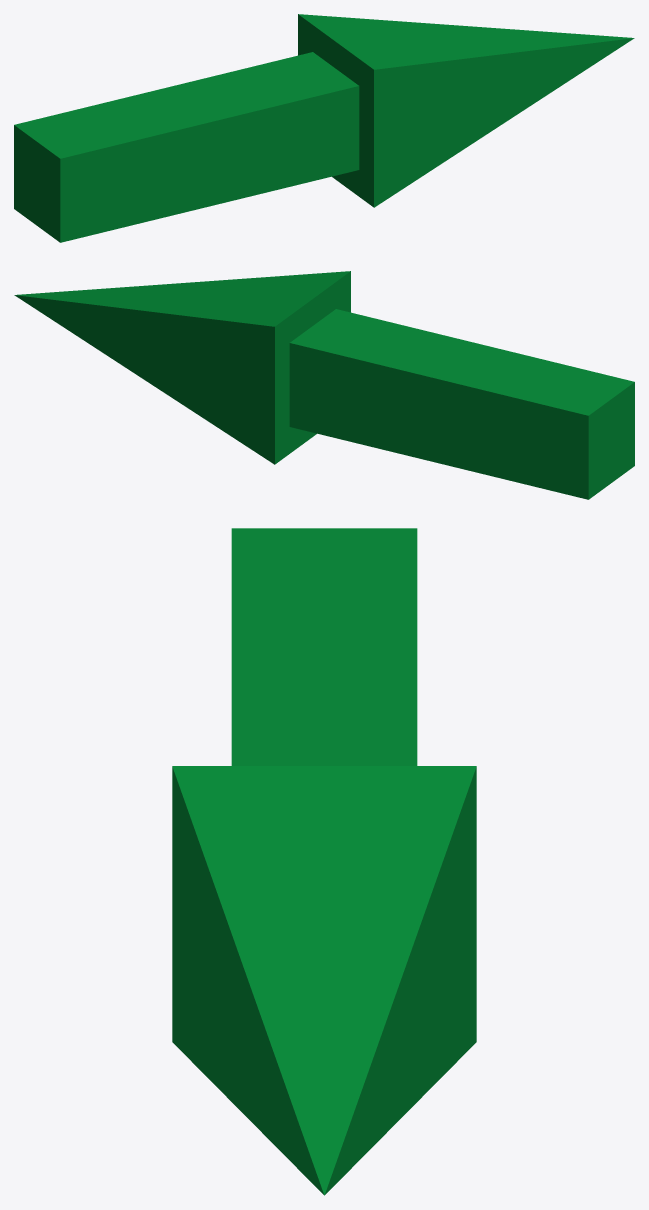
The model's file is Arrow.glb.
3 renders of one model, top to bottom at view 1: azimuth 30°, elevation 25°; view 2: azimuth 150°, elevation 25°; view 3: azimuth 270°, elevation 25°, orthographic. The views are drawn at different scales.
Visible parts, largest first — view 1: Cube; view 2: Cube; view 3: Cube.
Part boxes in pixels (<box>): Cube: <box>14,14,634,242</box>; Cube: <box>14,271,634,499</box>; Cube: <box>172,528,476,1195</box>.
Bounding box in the file's own units: 9.07 × 2 × 2.
